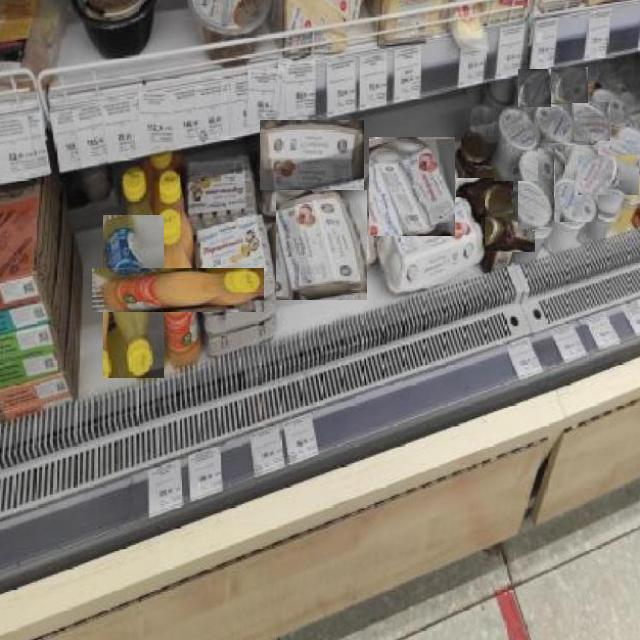Egg: (103, 215, 164, 378), (277, 190, 367, 300), (375, 198, 485, 288), (368, 138, 455, 236), (92, 269, 264, 312), (260, 120, 364, 190), (495, 103, 538, 181), (555, 144, 598, 222), (517, 147, 554, 229), (575, 155, 640, 195), (463, 216, 535, 252), (456, 126, 489, 196), (456, 179, 513, 213), (572, 101, 610, 141), (536, 103, 574, 143), (550, 67, 588, 103), (517, 70, 551, 107)
